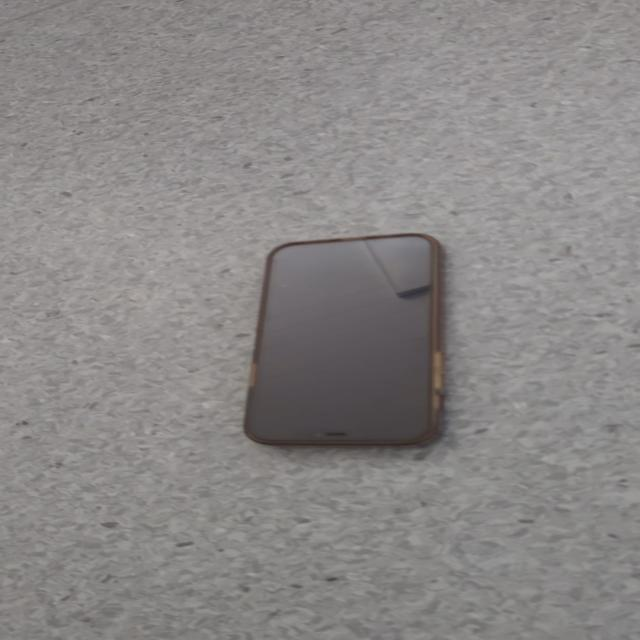phone: (242, 232, 444, 447)
